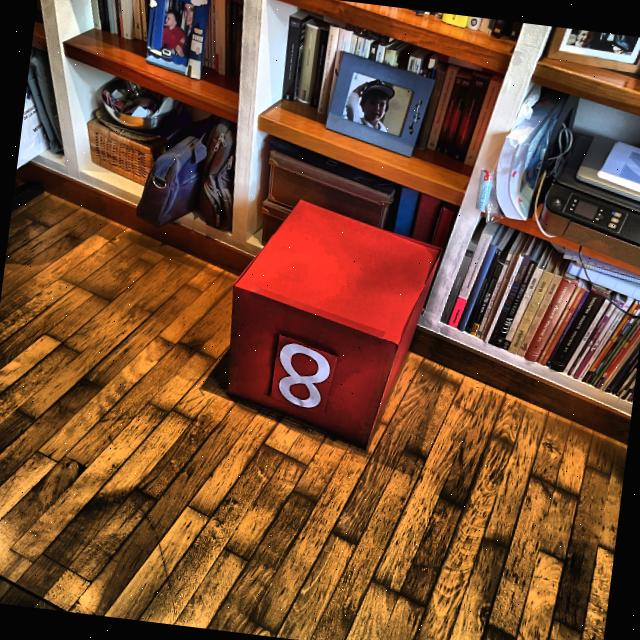eight: (272, 339, 333, 412)
red box: (217, 192, 447, 458)
